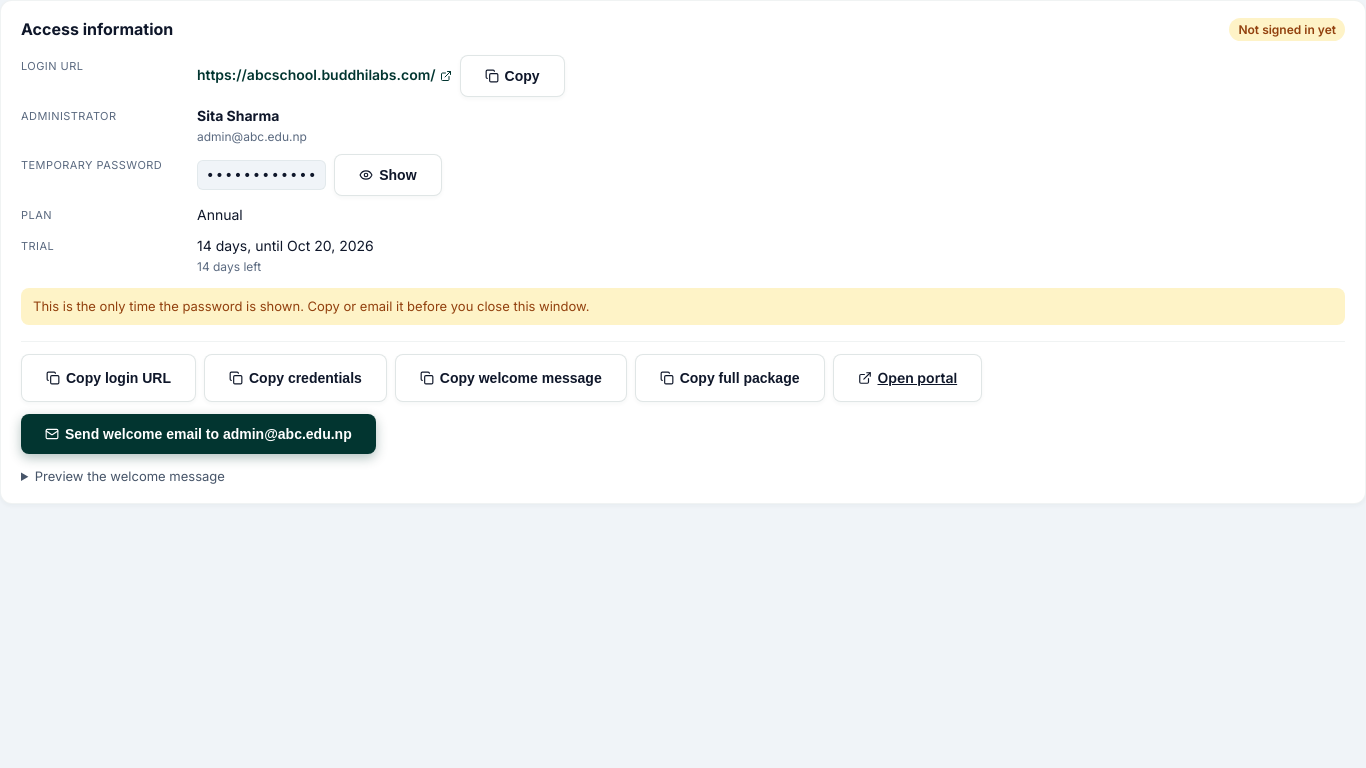
Test: the access card › shows the server’s reason when an email is refused
Step 1. Click the button "Send welcome email to admin@abc.edu.np" → [198, 434], box left=21, top=414, right=376, bottom=454
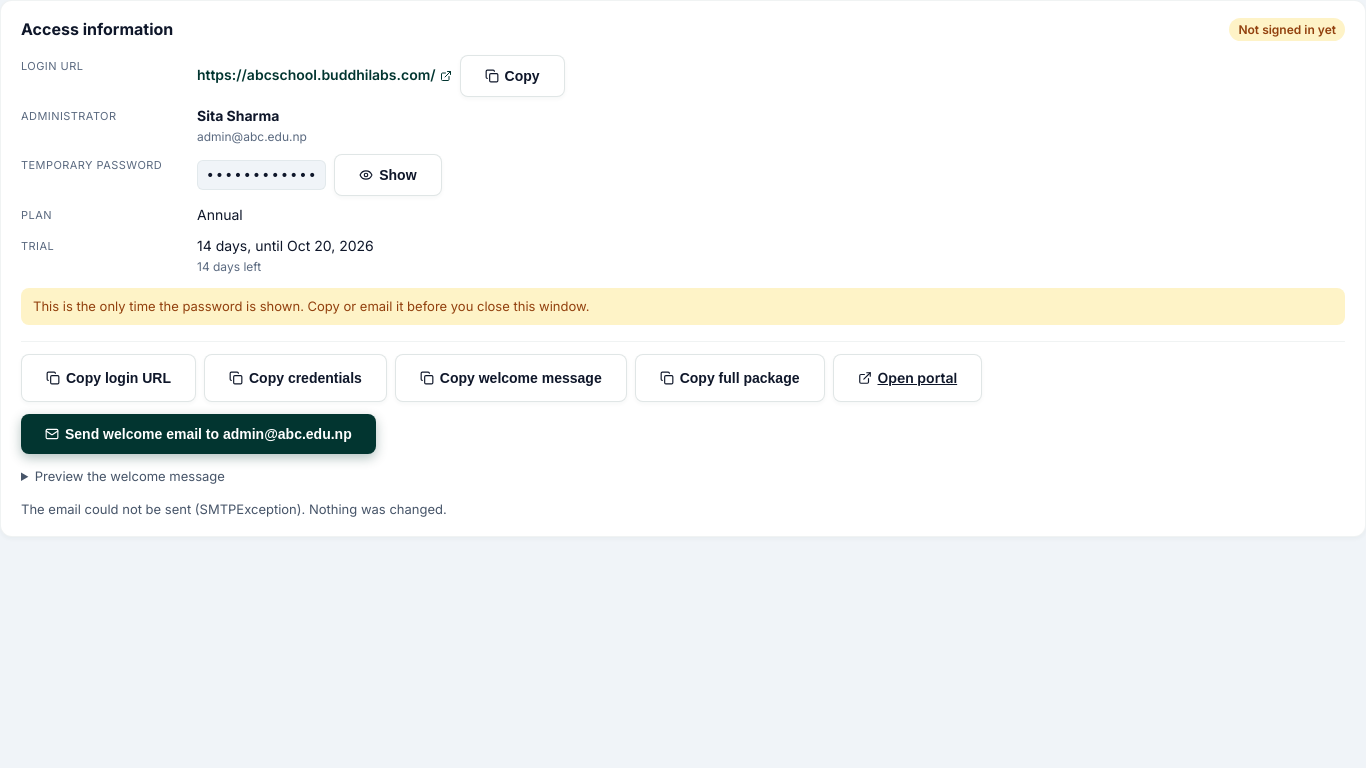
Now the message shows "Nothing was changed", box left=21, top=501, right=447, bottom=517
